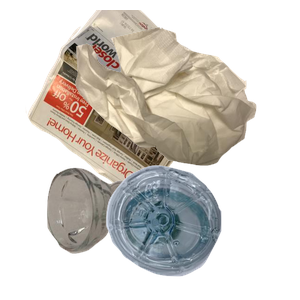glass: (44, 165, 178, 300)
paper: (23, 10, 245, 190)
plastic: (104, 163, 300, 300)
trash: (73, 25, 300, 183)
